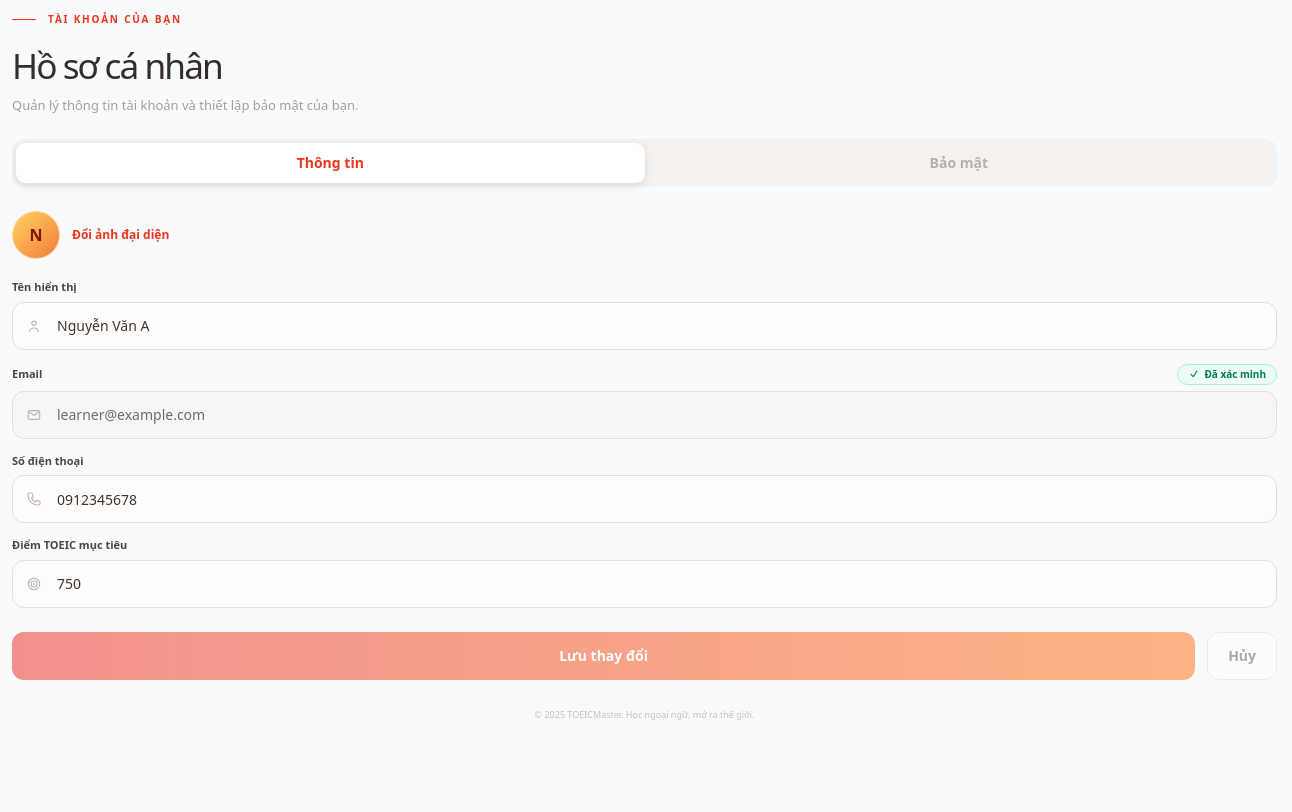
it: ProfilePanel › hiển thị ban đầu ở tab Thông tin và cho phép chuyển sang tab Bảo mật
The image size is (1292, 812).
Expected: the field labelled "Tên hiển thị" is shown, [12,302,1277,350]
Expected: the field labelled "Mật khẩu hiện tại" is not shown
Note: Chuyển tab sang Bảo mật
Click the button "Bảo mật" at (959, 163), box [644,143,1273,183]
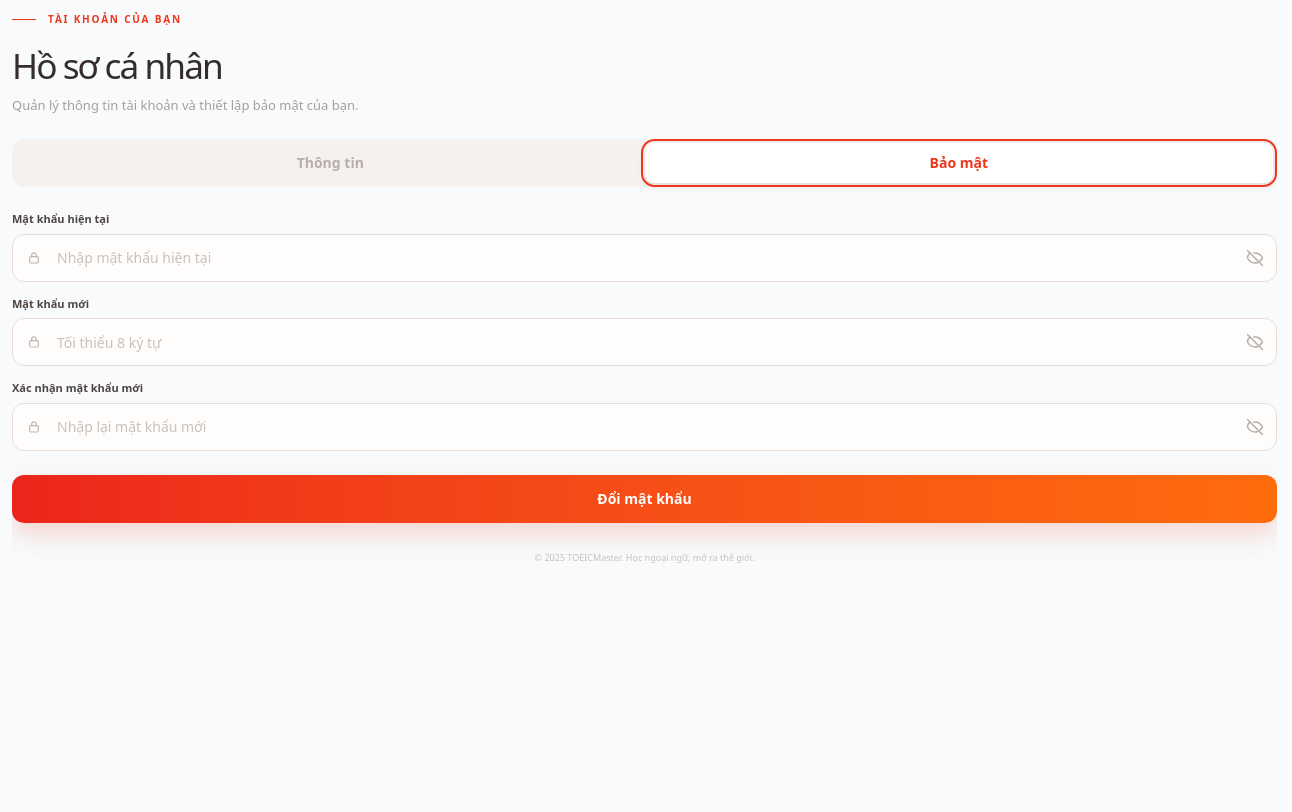
Result: the password field labelled "Mật khẩu hiện tại" is shown at [12,234,1277,282]
Result: the label labelled "Tên hiển thị" is gone
Note: Chuyển lại tab Thông tin
Click the button "Thông tin" at (330, 163), box [16,143,644,183]
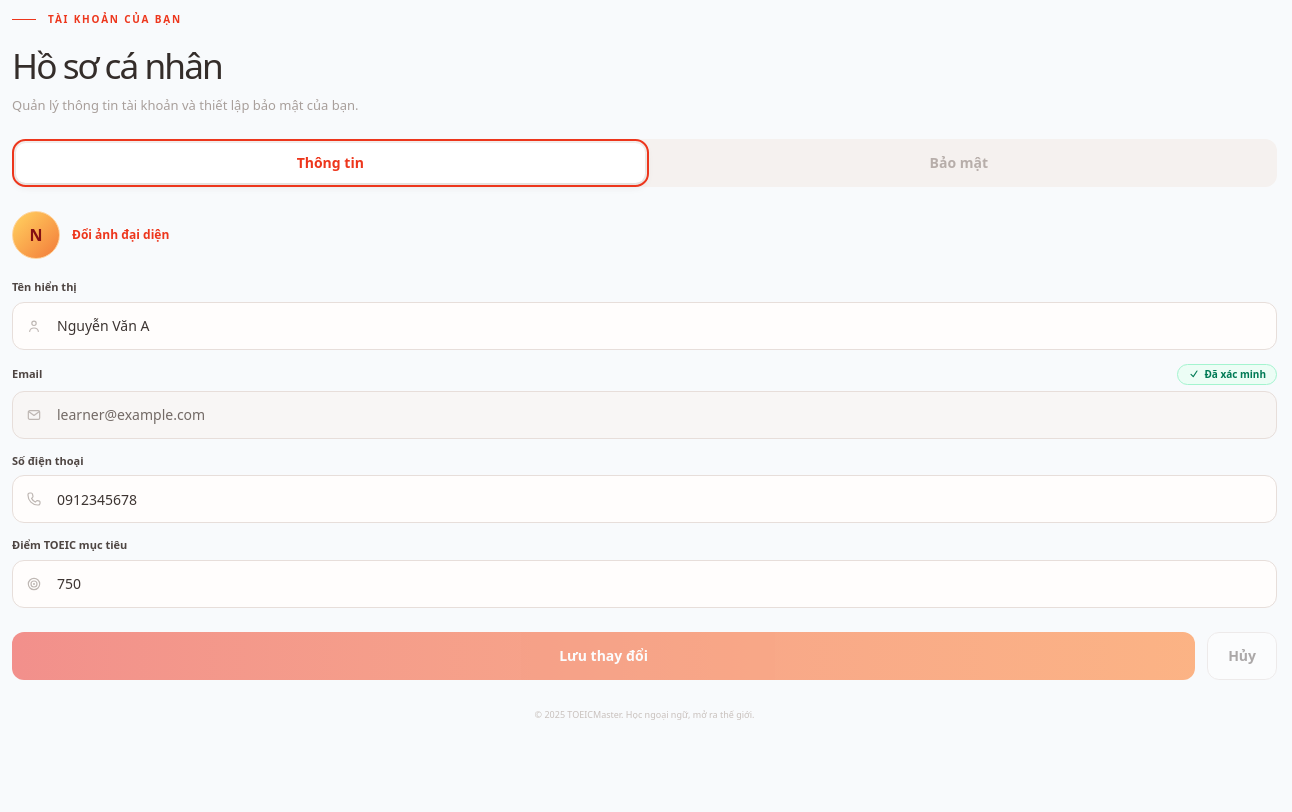
Result: the field labelled "Tên hiển thị" is shown at [12,302,1277,350]
